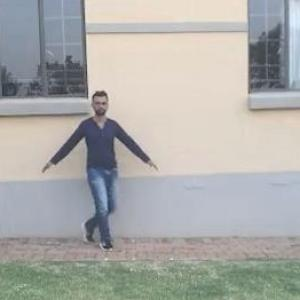land: (42, 92, 152, 258)
